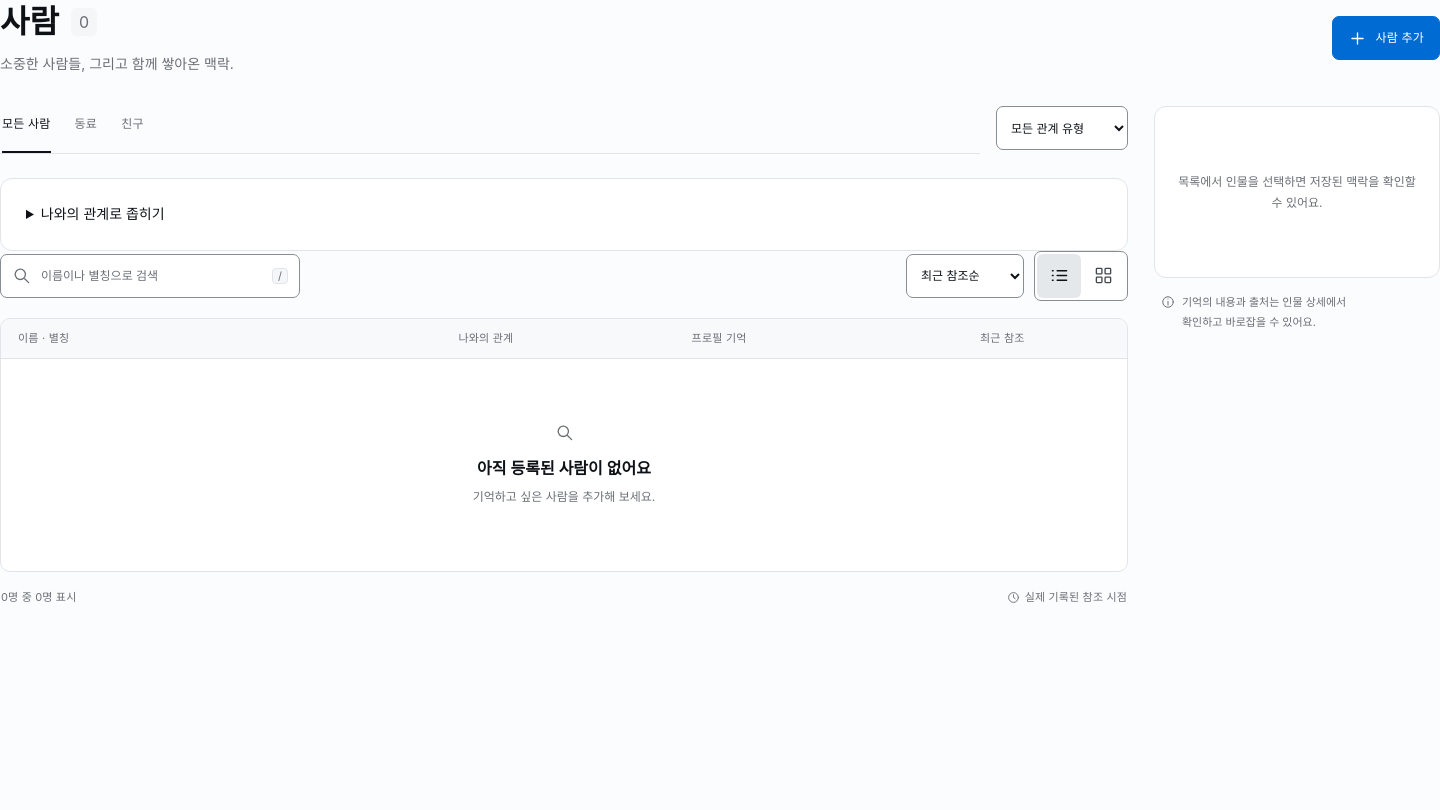
Scenario: real API people directory › keeps failed create input and never reports a successful navigation
Check: the heading "아직 등록된 사람이 없어요" is shown, box [477,458,651,478]
Click the button "사람 추가".
click(1386, 38)  # box [1332,16,1439,60]
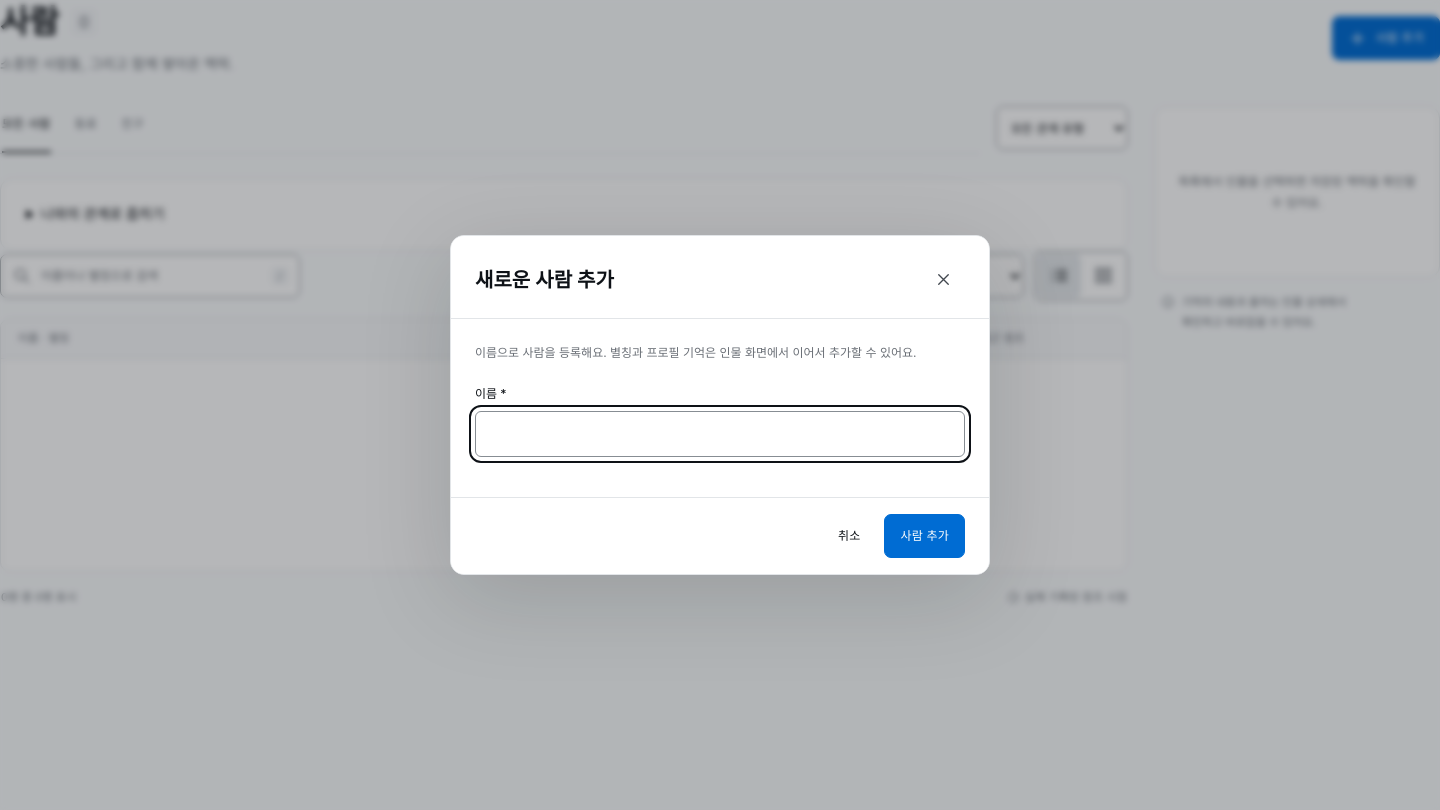
Type "보존할 이름" into the field labelled "이름 *".
click(720, 434); type("보존할 이름")  # box [475,411,965,457]
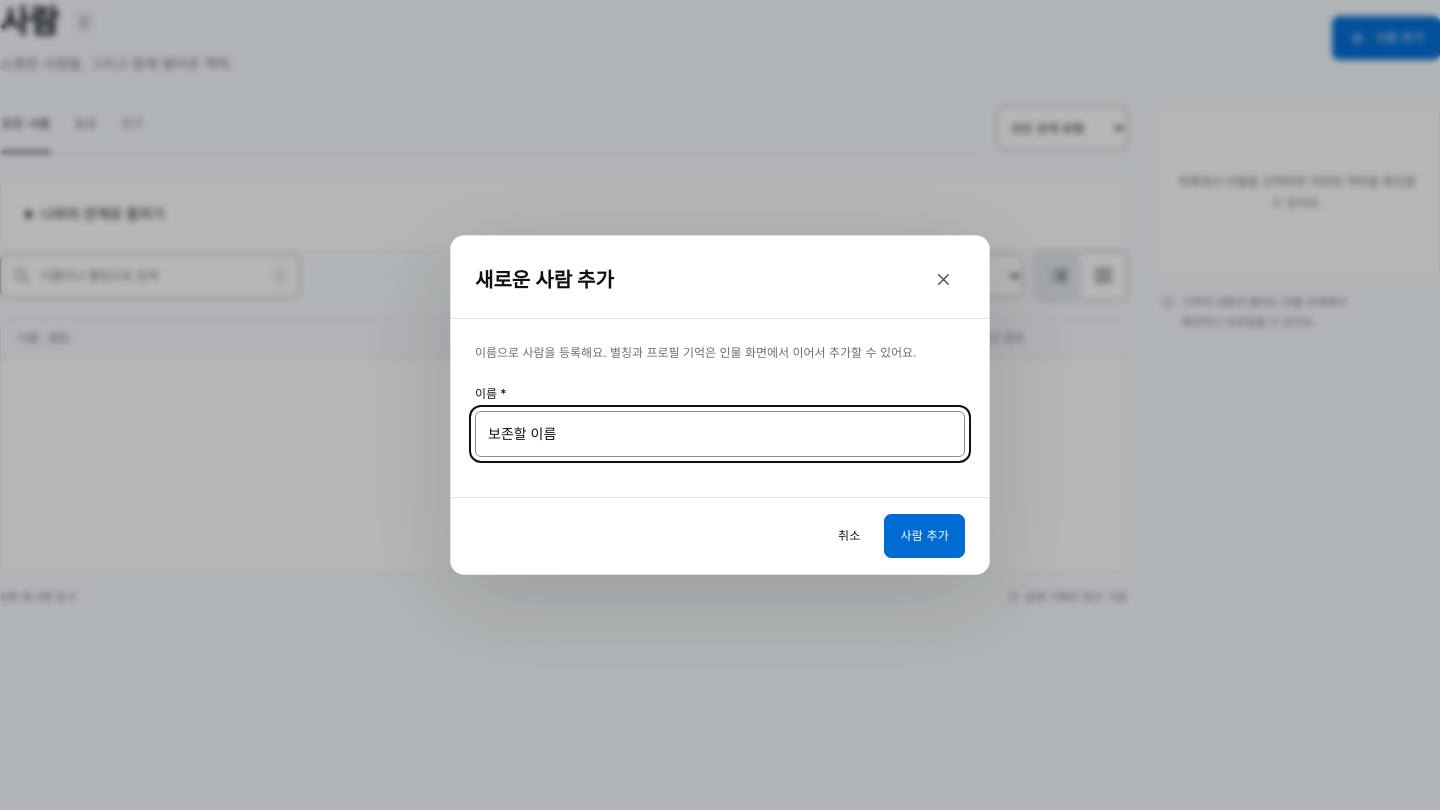
Click the button "사람 추가".
click(925, 536)  # box [884,514,965,558]
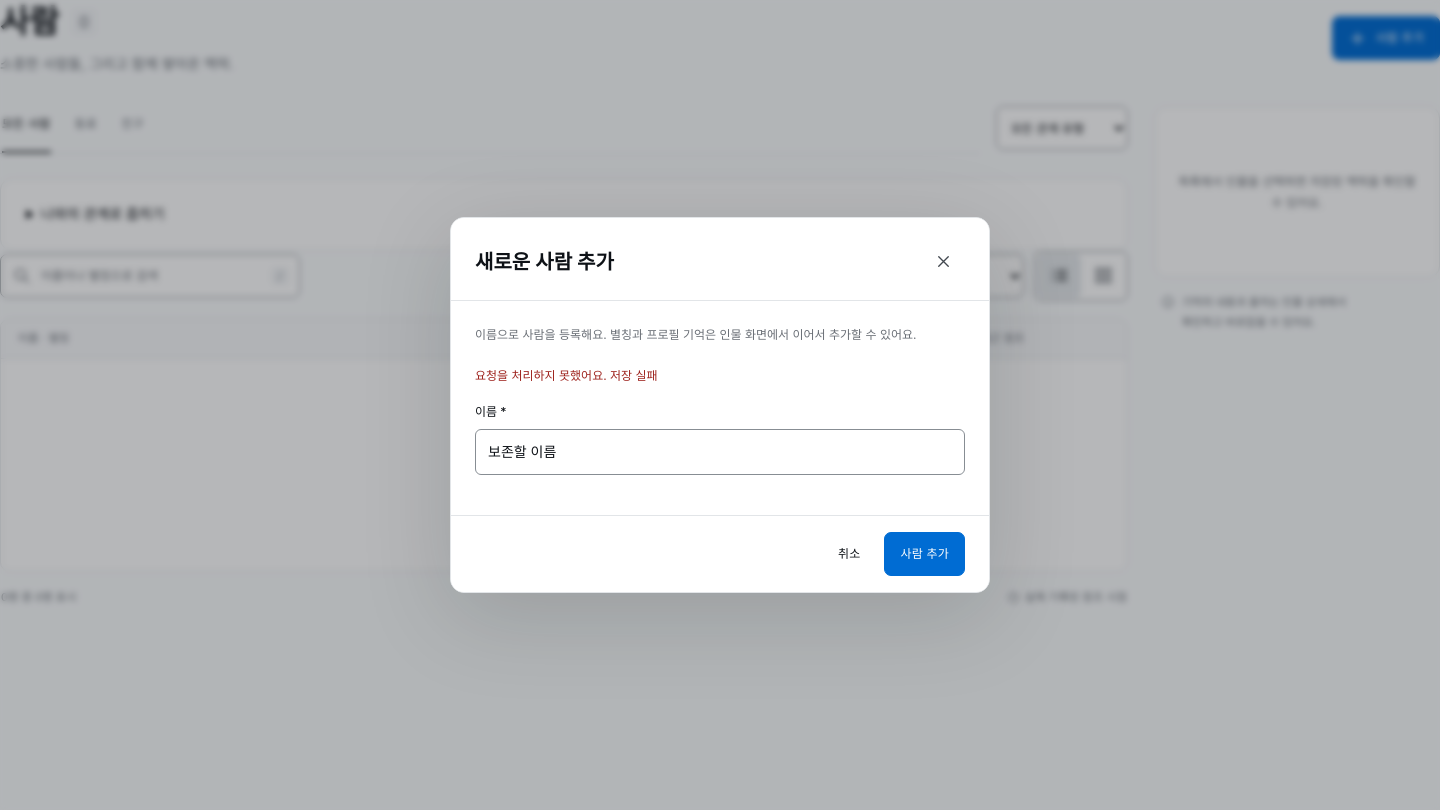
Check: the message shows "저장 실패", box [475,368,658,383]
